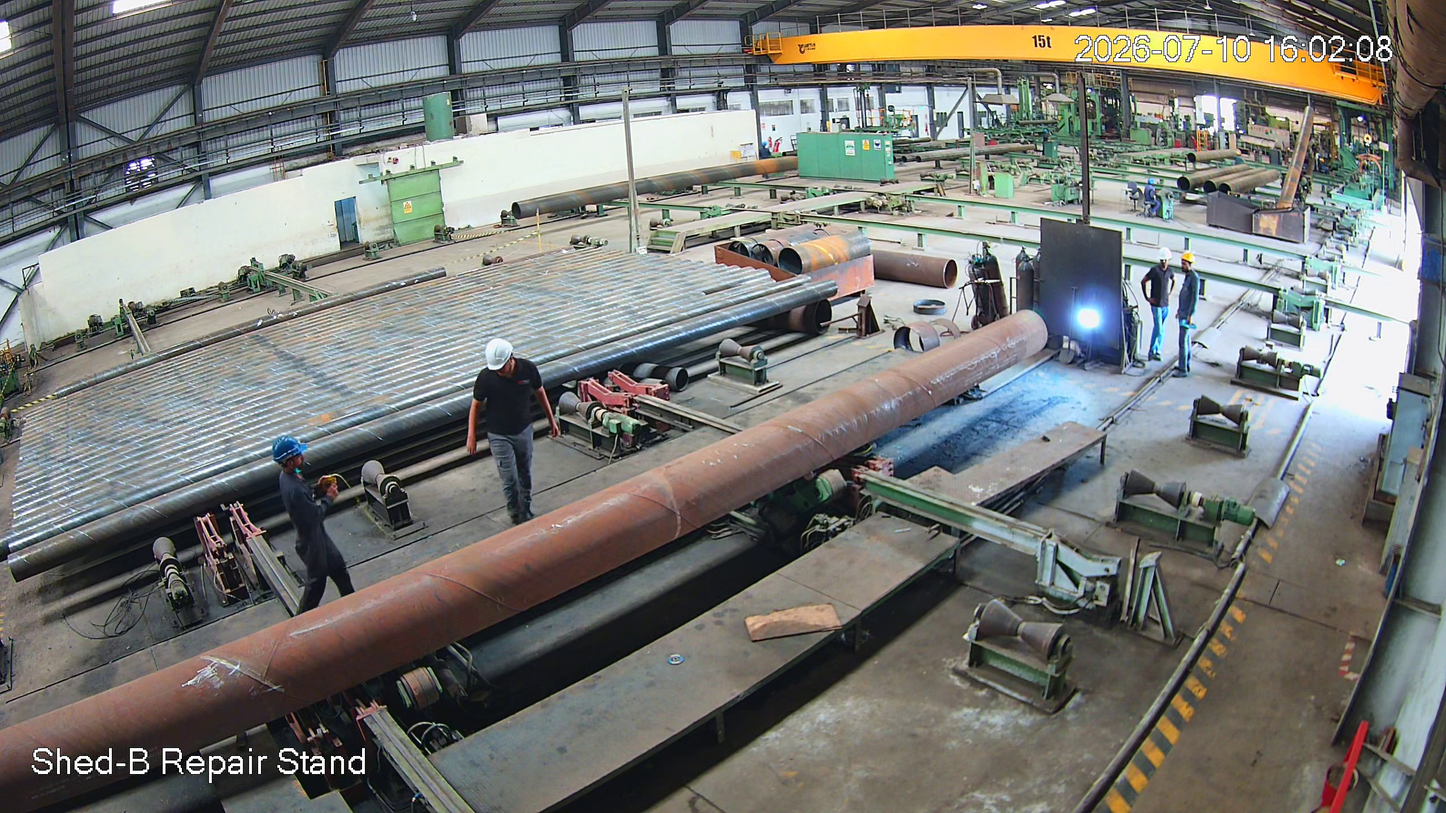Helmet: (474, 333, 534, 395), (268, 435, 316, 492), (1154, 242, 1178, 275), (1177, 248, 1201, 277)
Person: (451, 346, 567, 521), (262, 441, 359, 616), (1174, 251, 1206, 385), (1142, 246, 1175, 363)
